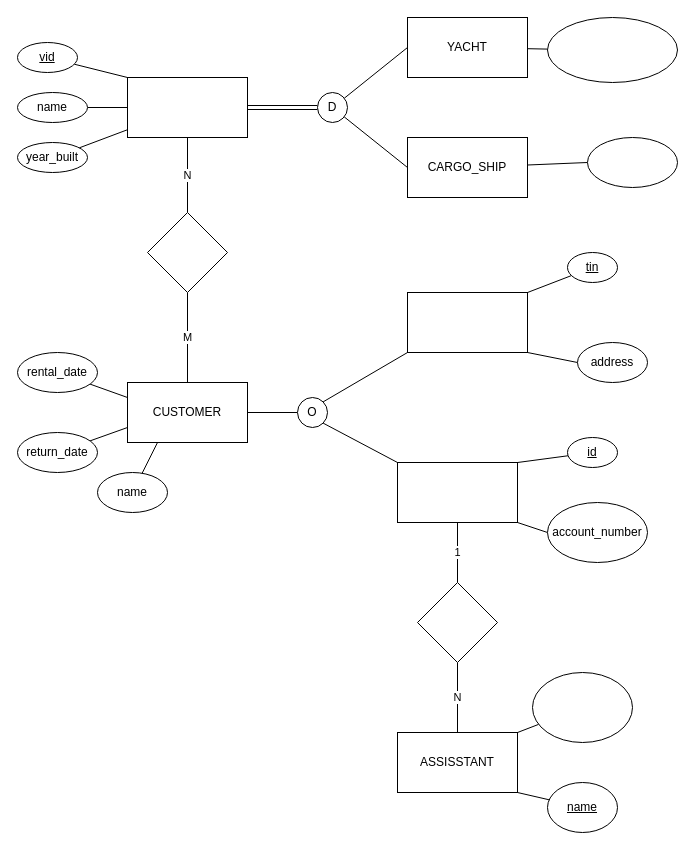
Image size: 695x850. Some labels were removed from this diagram. Each missing label, with the centre of its shape:
"BILLIONAIRE" belongs at (x=457, y=492).
"BOATS" belongs at (x=187, y=107).
"BUSINESS" belongs at (x=467, y=322).
"cargo_capacity" belongs at (x=632, y=162).
"EMPLOYS" belongs at (x=457, y=622).
"number_of_bedrooms" belongs at (x=612, y=49).
"phone_number" belongs at (x=582, y=707).
"RENTS" belongs at (x=187, y=252).
